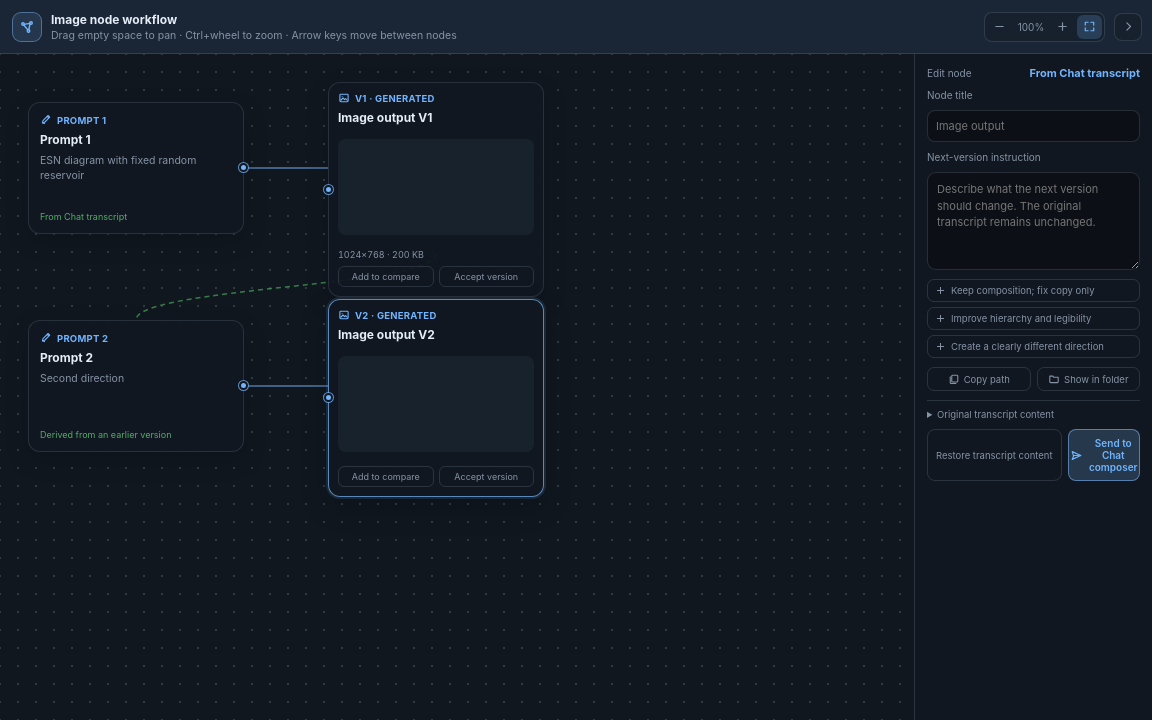
it: ImageWorkflowPanel › compares real generated versions in labelled A/B slots
Click the 1st button "Add to compare" at (386, 276), box [338,266,434,287]
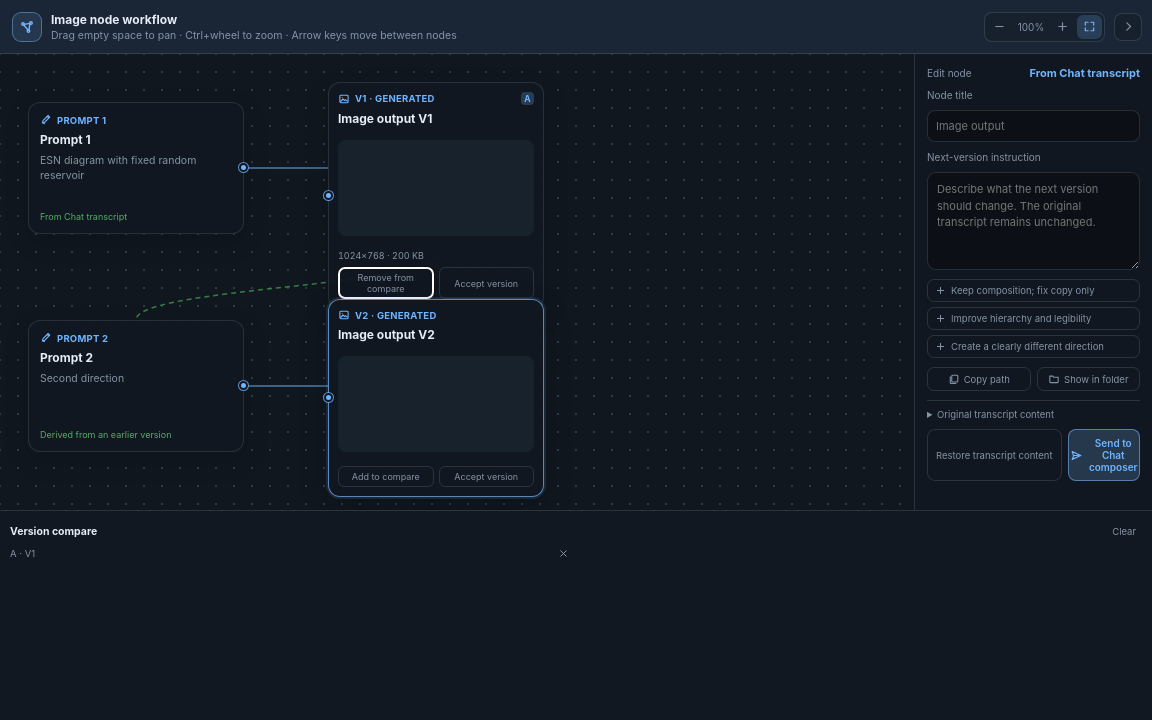
Click the button "Add to compare" at (386, 476), box [338,466,434,487]
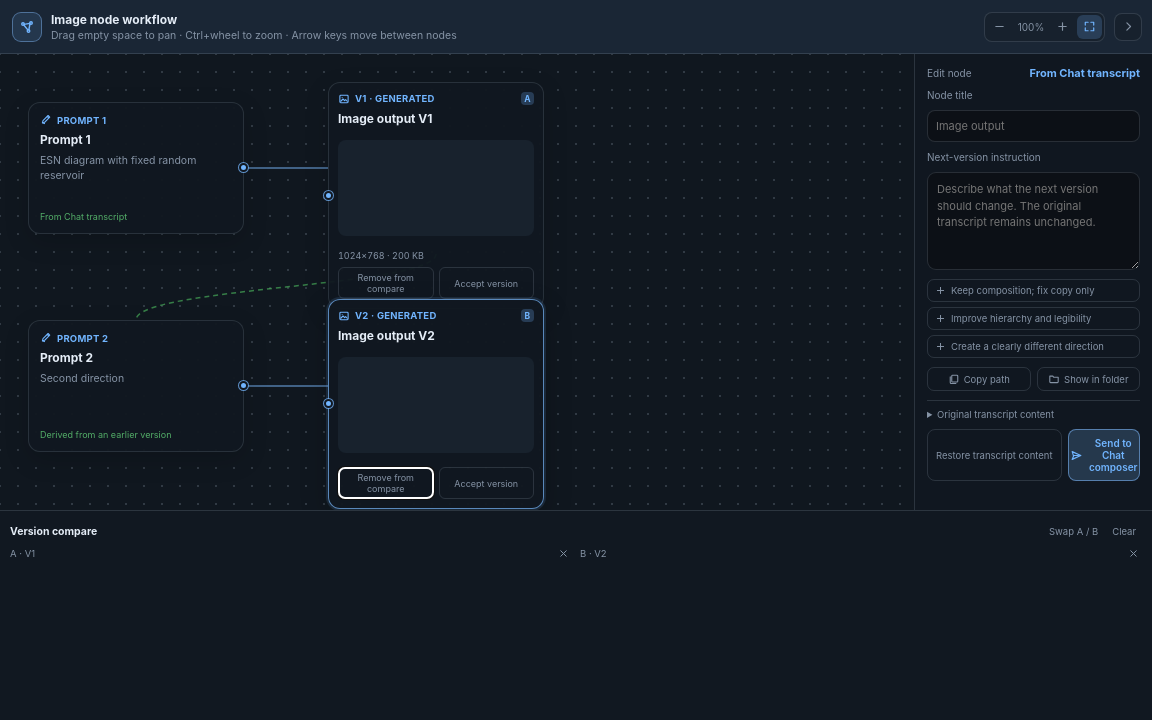
Check: the element "Version compare" shows "A · V1", box [0,510,1151,719]
Check: the element "Version compare" shows "B · V2", box [0,510,1151,719]
Click the button "Swap A / B" at (1074, 532), box [1043,523,1104,540]
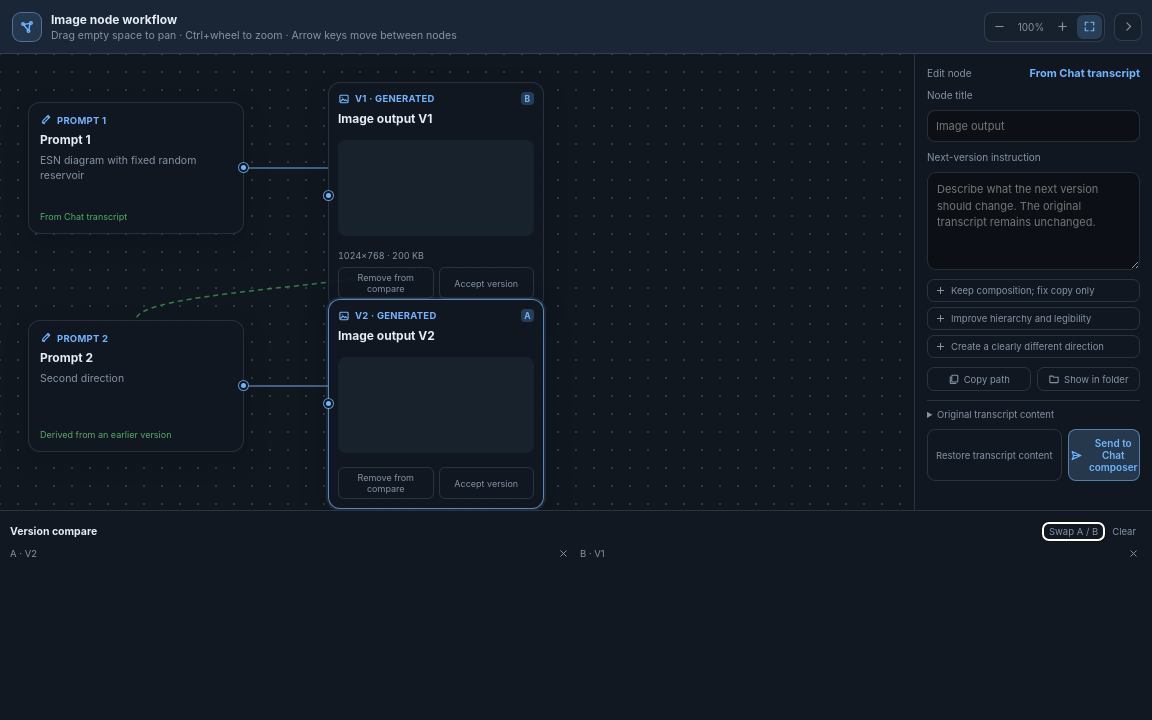
Check: the element "Version compare" shows "A · V2", box [0,510,1151,719]
Click the button named "Remove from compare: V2" at (564, 554), box [555,545,572,562]
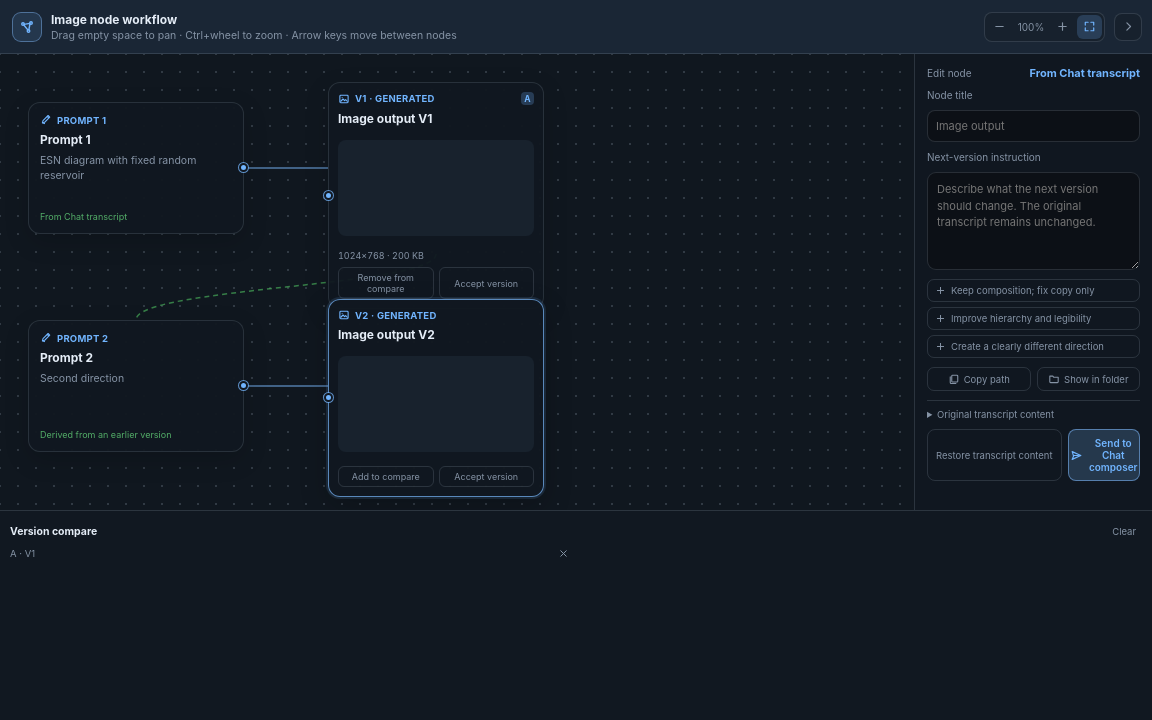
Check: the text "Version compare" no longer shows "A · V2"
